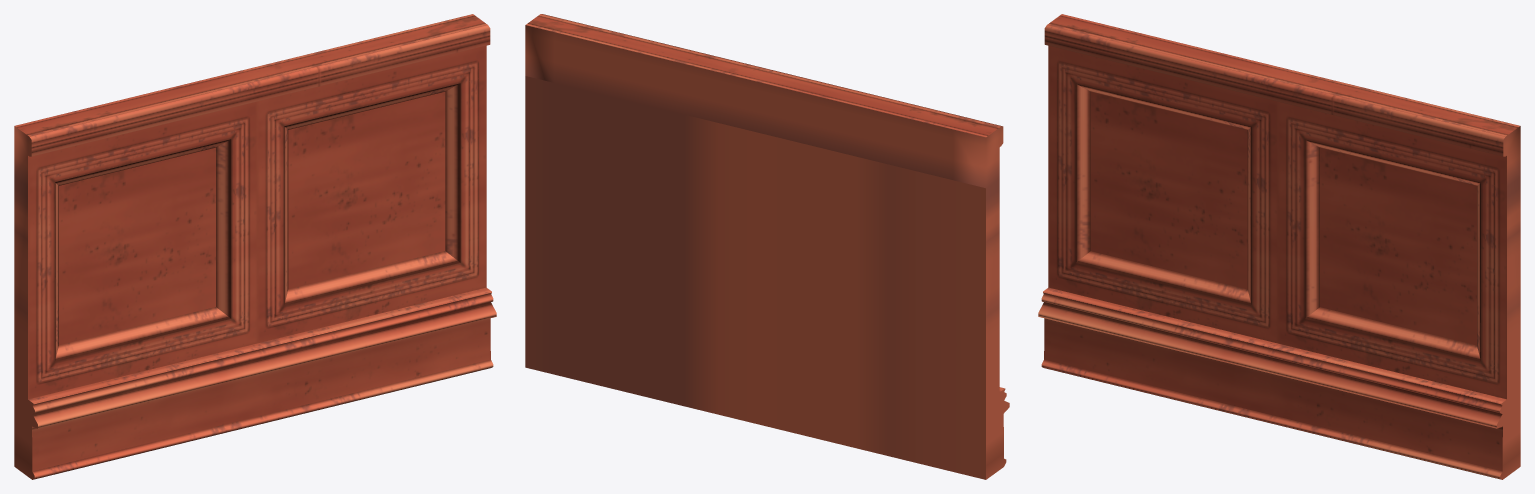
File: MSH_LowWall_01.FBX
The picture shows the model from 3 angles, left to right: view 1: azimuth 30°, elevation 25°; view 2: azimuth 150°, elevation 25°; view 3: azimuth 330°, elevation 25°; orthographic projection.
Visible parts, largest first — view 1: MSH_LowWall_01; view 2: MSH_LowWall_01; view 3: MSH_LowWall_01.
Boxes of the visible parts, <box> form: MSH_LowWall_01: <box>14,14,496,479</box>; MSH_LowWall_01: <box>525,14,1009,479</box>; MSH_LowWall_01: <box>1038,14,1520,479</box>.
Size of what is drawn, in the model's own units: 180 by 15.96 by 128.
